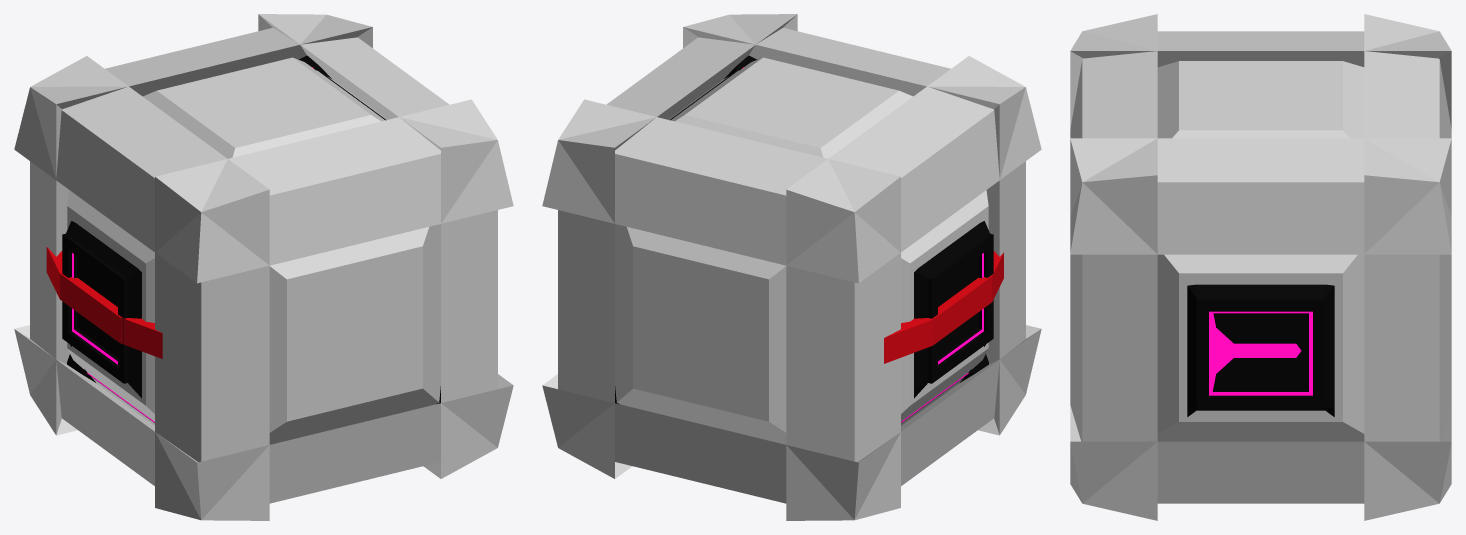
File: ANOTHER CUBE.fbx
The picture shows the model from 3 angles, left to right: view 1: azimuth 30°, elevation 25°; view 2: azimuth 150°, elevation 25°; view 3: azimuth 270°, elevation 25°; orthographic projection. The views are drawn at different scales.
Visible parts, largest first — view 1: Cube, Cube.003, Cube.001; view 2: Cube, Cube.003, Cube.001; view 3: Cube, Cube.003.
Part boxes in pixels (box(x1,y1,x2,y2)): Cube: box(14, 14, 513, 520); Cube.003: box(62, 55, 440, 422); Cube.001: box(46, 247, 162, 358); Cube: box(542, 14, 1041, 520); Cube.003: box(615, 55, 993, 422); Cube.001: box(884, 251, 1003, 363); Cube: box(1070, 14, 1451, 520); Cube.003: box(1187, 284, 1334, 416).
Size of the model in its own units: 237 by 219 by 219.
